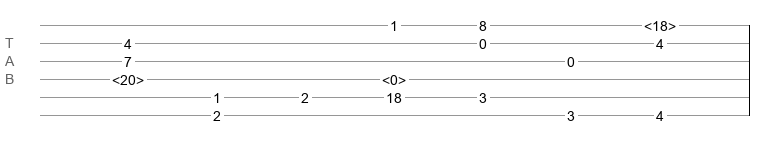0: (479, 36, 487, 46), (567, 54, 575, 64)
1: (213, 90, 221, 100), (390, 18, 398, 28)
18: (386, 90, 402, 100)
2: (213, 108, 221, 118), (301, 90, 309, 100)
3: (479, 90, 487, 100), (567, 108, 575, 118)
4: (124, 36, 132, 46), (656, 36, 664, 46), (656, 108, 664, 118)
7: (124, 54, 132, 64)
8: (479, 18, 487, 28)
harmonic: (112, 72, 144, 82), (644, 18, 676, 28), (382, 72, 406, 82)
